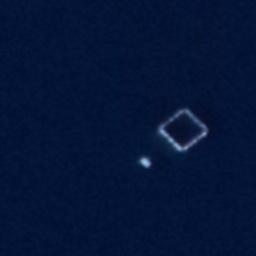square_solid: (154, 102, 212, 157)
